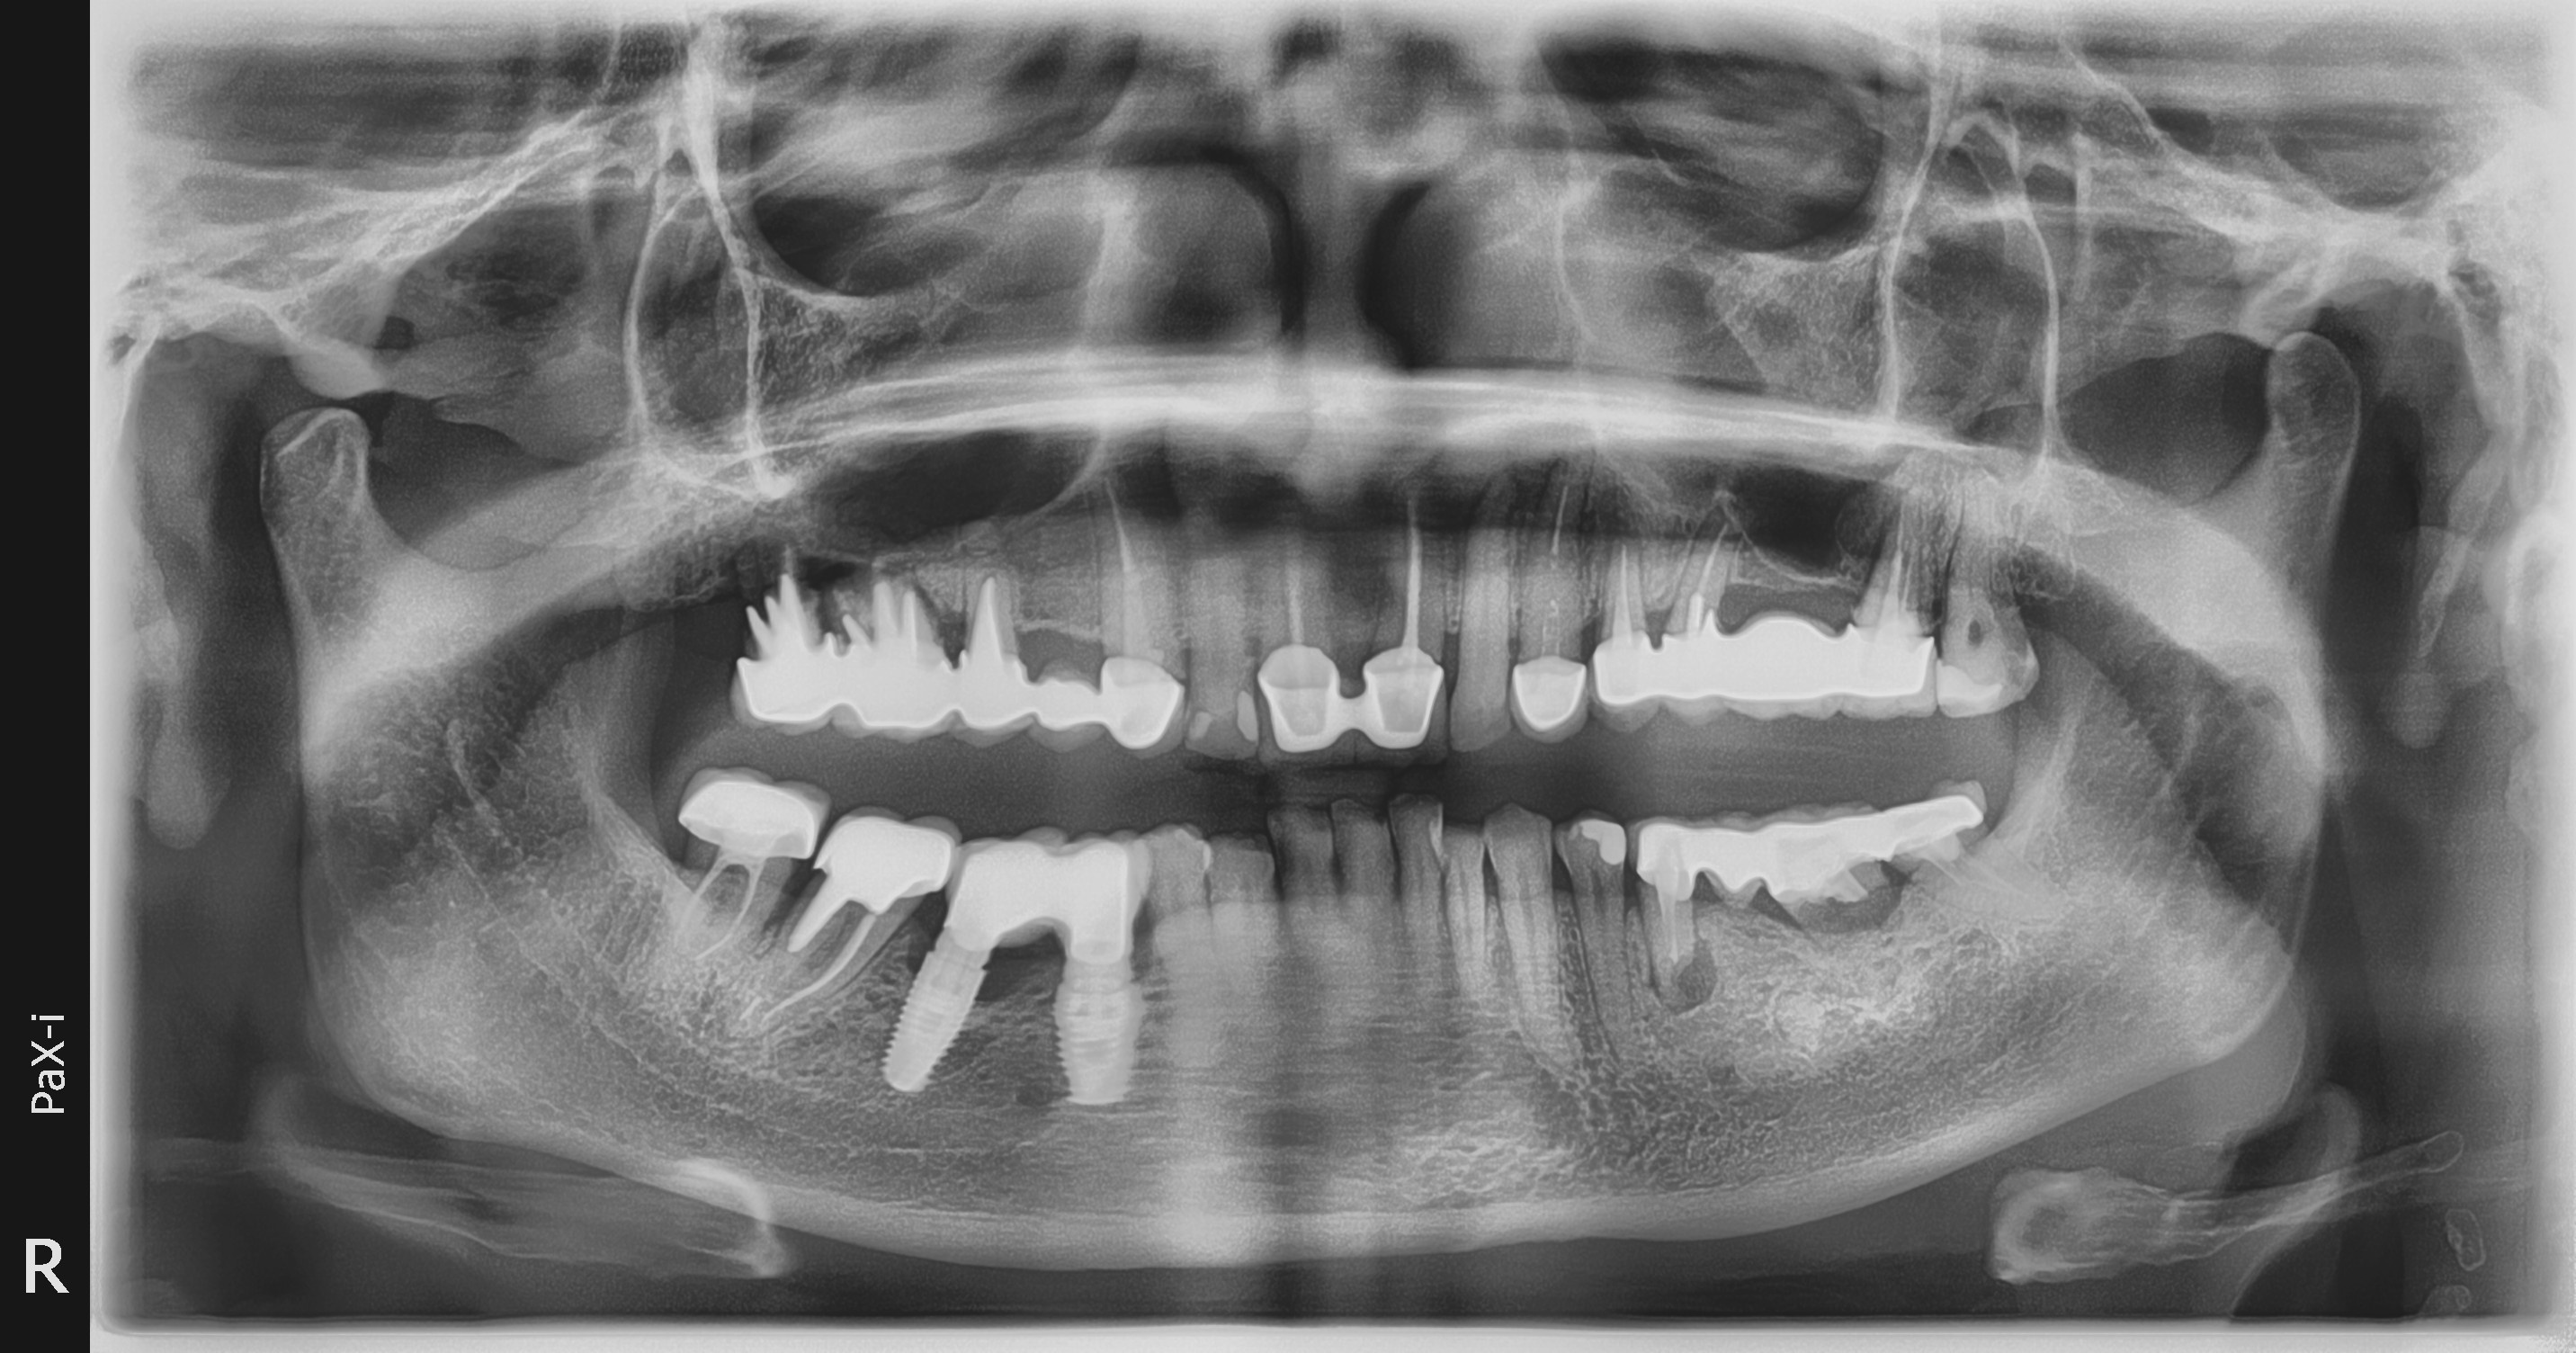END: (748, 883, 876, 1045), (1097, 487, 1153, 658), (683, 854, 762, 963), (1678, 510, 1739, 630), (736, 573, 826, 654), (1869, 474, 1915, 625), (1392, 492, 1433, 653), (1598, 521, 1644, 653), (845, 586, 925, 658), (968, 564, 1010, 666), (1281, 508, 1312, 648), (1538, 486, 1583, 573)
FUR: (1654, 941, 1726, 1024)
IMP: (881, 941, 990, 1097), (1056, 947, 1145, 1123)
OBT: (1571, 816, 1629, 866)
PRR: (738, 648, 1182, 745), (1634, 791, 1985, 901), (1593, 615, 1942, 724), (944, 832, 1159, 941), (1259, 648, 1443, 769), (680, 767, 811, 861), (811, 809, 954, 891), (1503, 658, 1584, 745)
